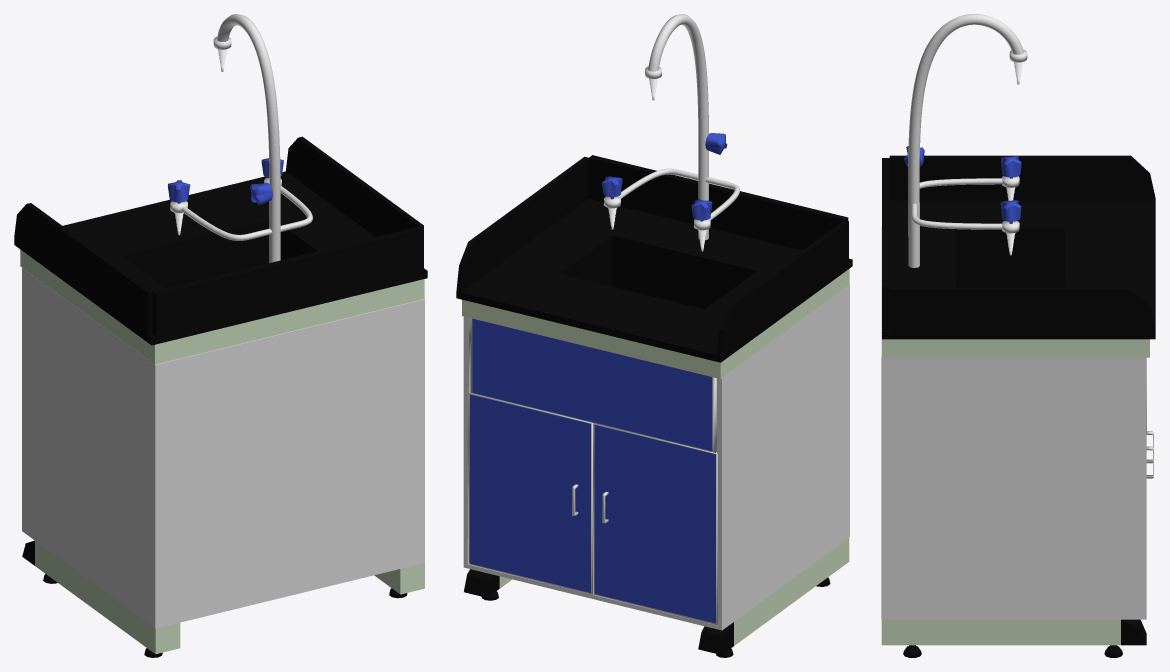
3 renders of one model, left to right at view 1: azimuth 30°, elevation 25°; view 2: azimuth 150°, elevation 25°; view 3: azimuth 270°, elevation 25°, orthographic. The views are drawn at different scales.
Visible parts, largest first — view 1: desktop6.005, desktop6.003, desktop6.004, desktop6.001, desktop6.009, desktop6.010, desktop6.002; view 2: desktop6.003, desktop6.005, desktop6.008, desktop6.007, desktop6.006, desktop6.004, desktop6.001, desktop6.009, desktop6.002, desktop6.010; view 3: desktop6.005, desktop6.003, desktop6.010, desktop6.001, desktop6.004, desktop6.002.
Boxes of the visible parts, x1,y1,x2,y2 form: desktop6.005: (22, 267, 424, 628); desktop6.003: (14, 136, 427, 345); desktop6.004: (20, 249, 424, 364); desktop6.001: (170, 14, 312, 262); desktop6.009: (22, 540, 180, 657); desktop6.010: (374, 563, 424, 598); desktop6.002: (167, 158, 283, 204); desktop6.003: (456, 155, 852, 362); desktop6.005: (463, 284, 849, 630); desktop6.008: (468, 392, 592, 594); desktop6.007: (593, 423, 718, 624); desktop6.006: (469, 318, 716, 452); desktop6.004: (462, 269, 849, 378); desktop6.001: (604, 14, 740, 251); desktop6.009: (698, 538, 849, 657); desktop6.002: (602, 133, 727, 221); desktop6.010: (464, 569, 511, 600); desktop6.005: (881, 226, 1146, 619); desktop6.003: (882, 155, 1155, 339); desktop6.010: (881, 619, 1146, 657); desktop6.001: (908, 14, 1027, 267); desktop6.004: (882, 339, 1149, 357); desktop6.002: (904, 146, 1021, 223).
Bounding box in the file's own units: 71.65 × 145 × 62.
